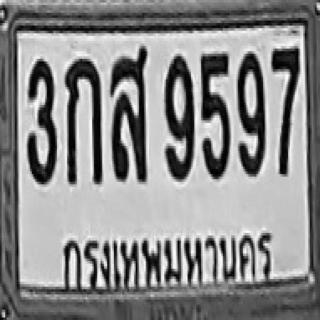A01: (65, 56, 101, 184)
A40: (109, 46, 148, 182)
N03: (25, 56, 57, 184)
N05: (199, 51, 230, 179)
N07: (270, 46, 299, 174)
N09: (164, 54, 194, 179), (237, 50, 266, 176)
P57: (52, 223, 281, 294)
